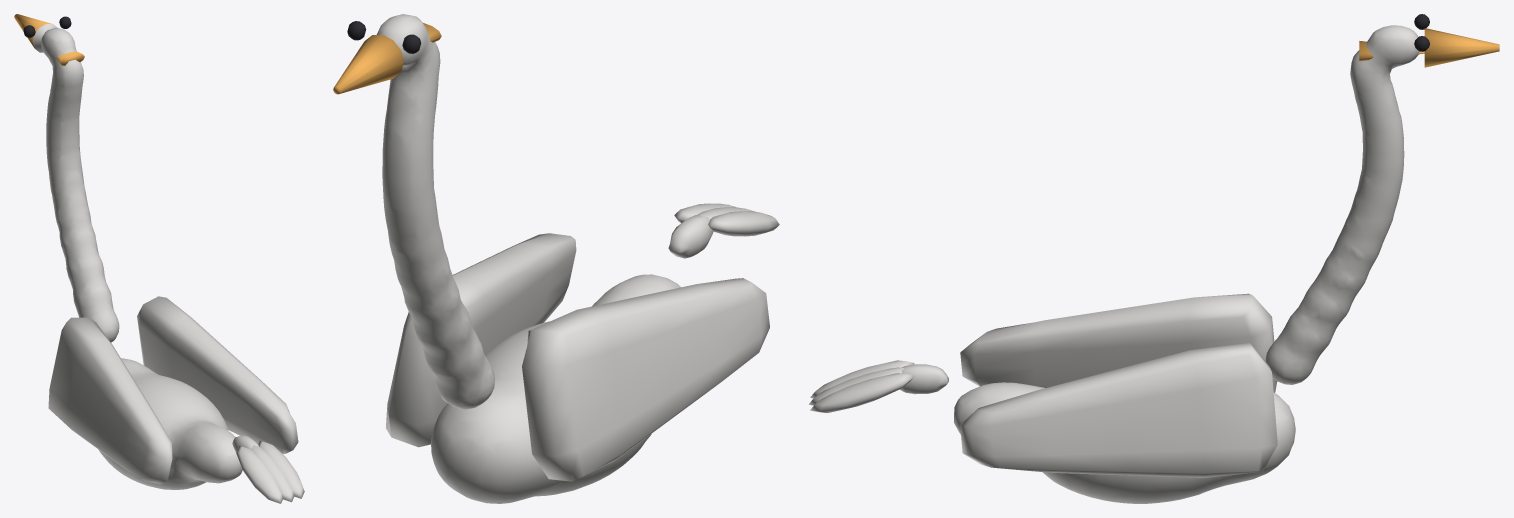
The model's file is swan_style2.glb.
The picture shows the model from 3 angles, left to right: view 1: azimuth 30°, elevation 25°; view 2: azimuth 150°, elevation 25°; view 3: azimuth 270°, elevation 25°; orthographic projection. The views are drawn at different scales.
Visible parts, largest first — view 1: WingR, NeckHead, WingL, Body, TailFan; view 2: WingR, NeckHead, Body, WingL, TailFan; view 3: WingL, NeckHead, WingR, Body, TailFan.
Part boxes in pixels (x1=…): WingR: x1=48, y1=317, x2=172, y2=484; NeckHead: x1=14, y1=14, x2=119, y2=342; WingL: x1=137, y1=296, x2=298, y2=453; Body: x1=98, y1=358, x2=258, y2=489; TailFan: x1=236, y1=440, x2=304, y2=503; WingR: x1=522, y1=278, x2=769, y2=481; NeckHead: x1=333, y1=14, x2=494, y2=409; Body: x1=431, y1=215, x2=713, y2=503; WingL: x1=386, y1=233, x2=576, y2=447; TailFan: x1=674, y1=203, x2=779, y2=236; WingL: x1=960, y1=343, x2=1277, y2=477; NeckHead: x1=1265, y1=14, x2=1499, y2=384; WingR: x1=960, y1=293, x2=1277, y2=392; Body: x1=900, y1=364, x2=1295, y2=503; TailFan: x1=809, y1=360, x2=914, y2=413.
Size of the model in its own units: 0.502 by 1.18 by 1.58.
